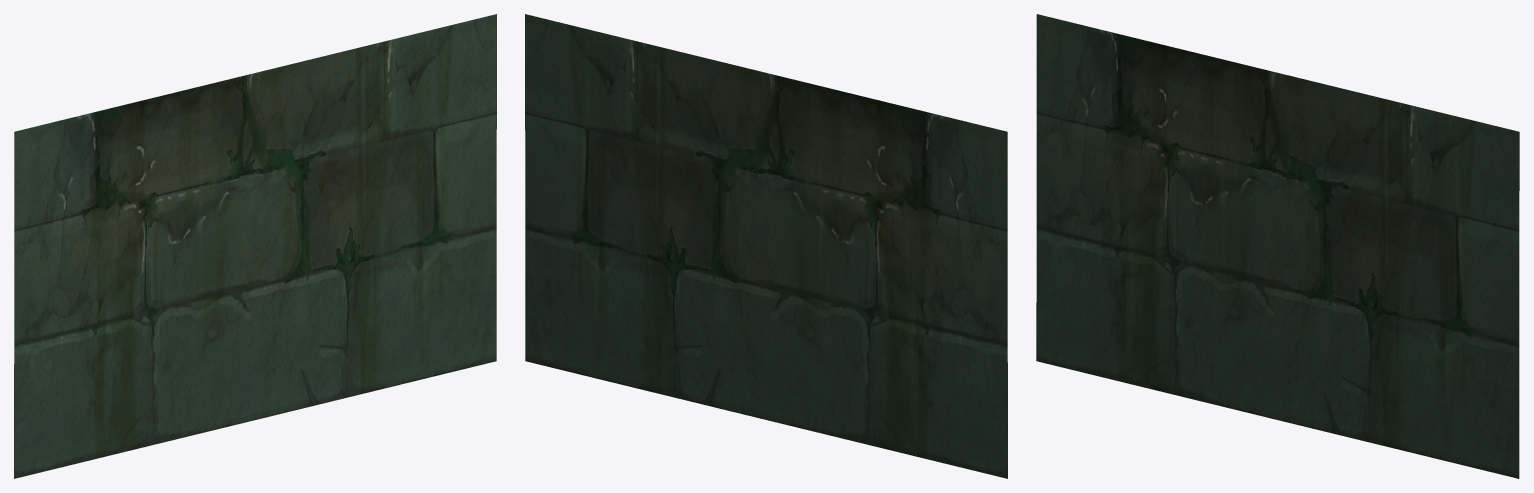
Rendered from stemple_half_straight_09.fbx.
3 views of the same model, side by side, from view 1: azimuth 30°, elevation 25°; view 2: azimuth 150°, elevation 25°; view 3: azimuth 330°, elevation 25° (orthographic).
Parts seen in each view (by area): view 1: sunken_tileset/sunken_wall_straight07_mat; view 2: sunken_tileset/sunken_wall_straight07_mat; view 3: sunken_tileset/sunken_wall_straight07_mat.
Boxes of the visible parts, bbox=[...] form: sunken_tileset/sunken_wall_straight07_mat: bbox=[14, 14, 496, 478]; sunken_tileset/sunken_wall_straight07_mat: bbox=[525, 14, 1007, 478]; sunken_tileset/sunken_wall_straight07_mat: bbox=[1036, 14, 1519, 478].
Bounding box in the file's own units: 4 × 2.75 × 0.00037.
